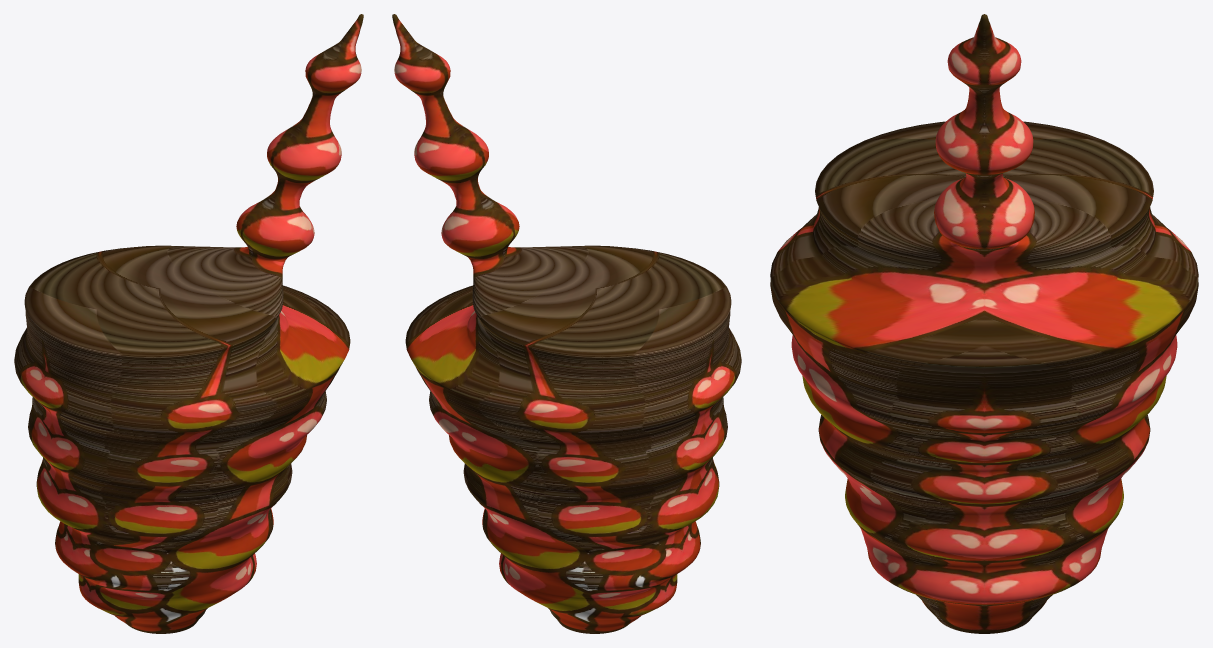
The model's file is scarlet_fungi.glb.
3 renders of one model, left to right at view 1: azimuth 30°, elevation 25°; view 2: azimuth 150°, elevation 25°; view 3: azimuth 270°, elevation 25°, orthographic. The views are drawn at different scales.
Visible parts, largest first — view 1: scarlet_fungi; view 2: scarlet_fungi; view 3: scarlet_fungi.
Part boxes in pixels (x1,y1,x2,y2): scarlet_fungi: [14, 14, 363, 633]; scarlet_fungi: [392, 14, 741, 633]; scarlet_fungi: [770, 14, 1198, 633].
Bounding box in the file's own units: 0.9958 × 1.61 × 0.8613.
Materials: 1 (1 with a texture image).
